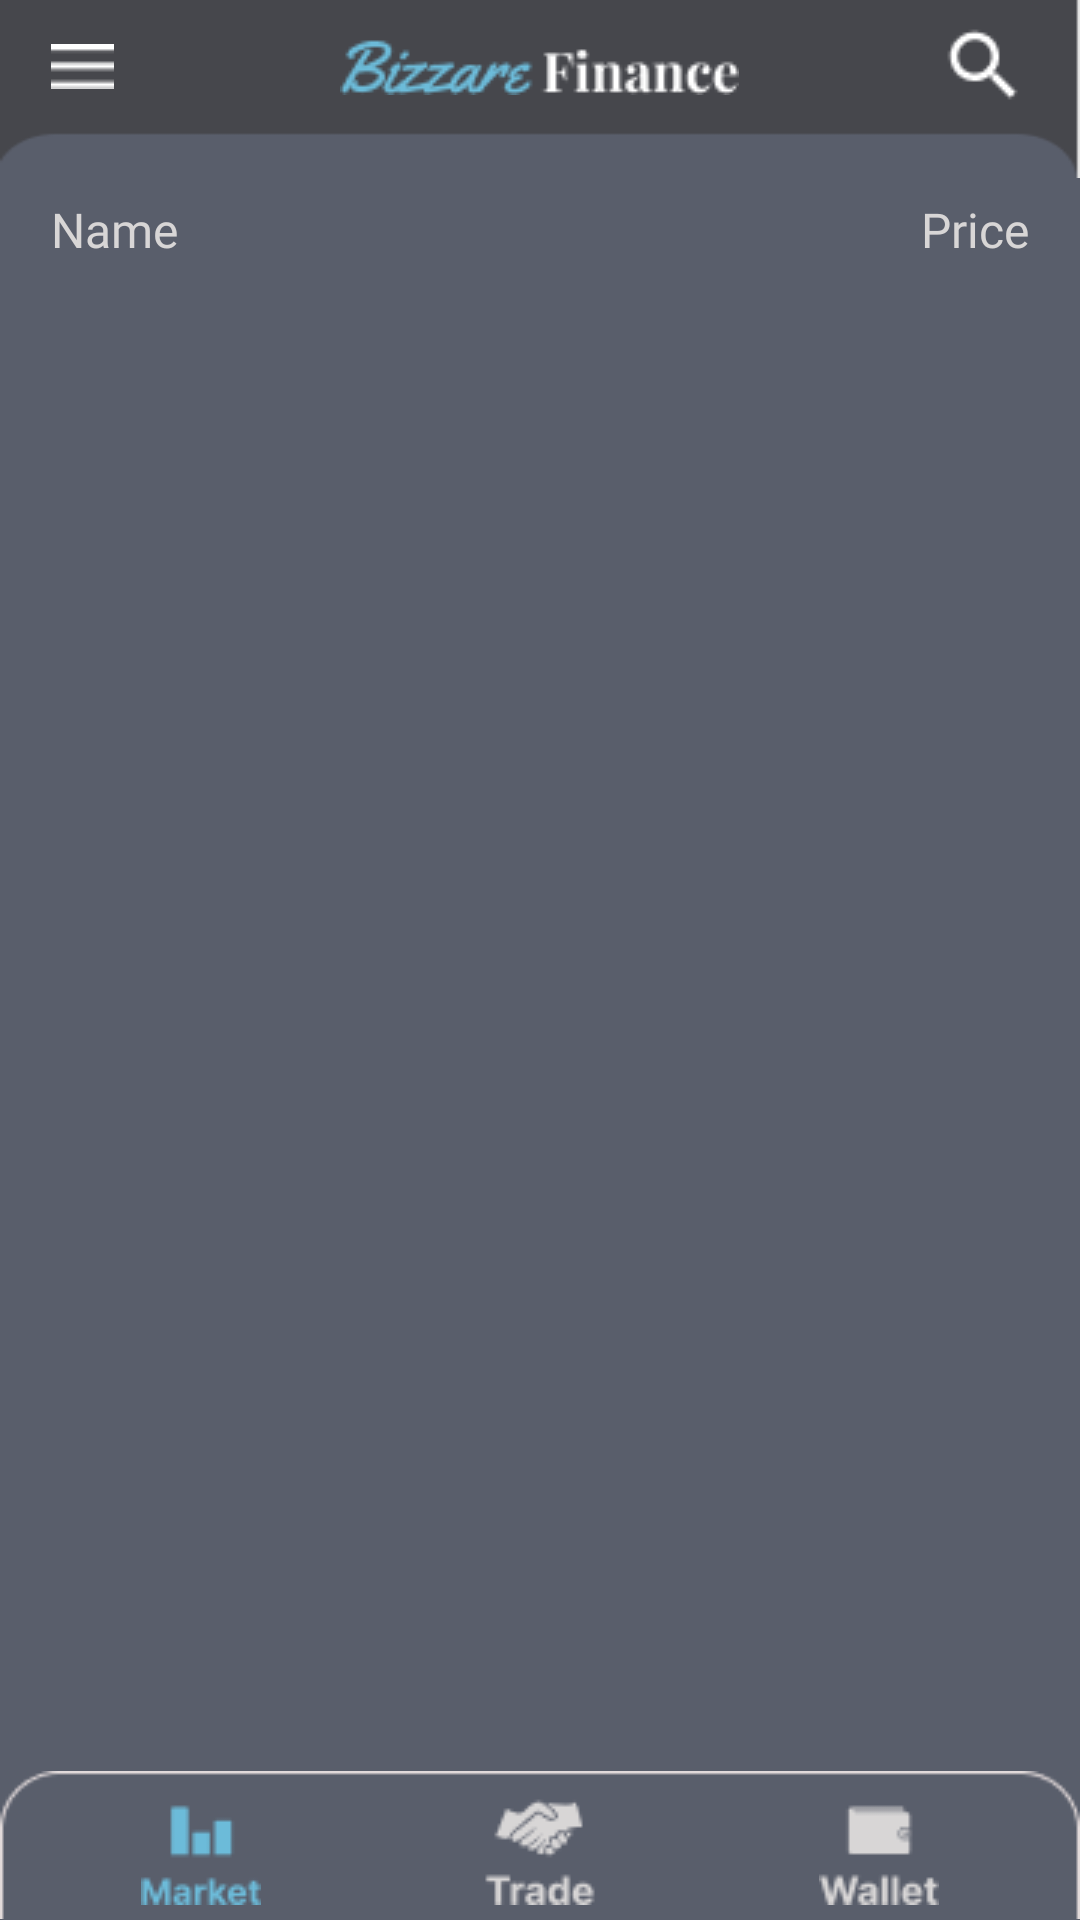

Icons on this 1080px x 1920px Android screen, each with the point to tap as (x=x, y=y):
menu: (x=82, y=66)
search: (x=982, y=64)
